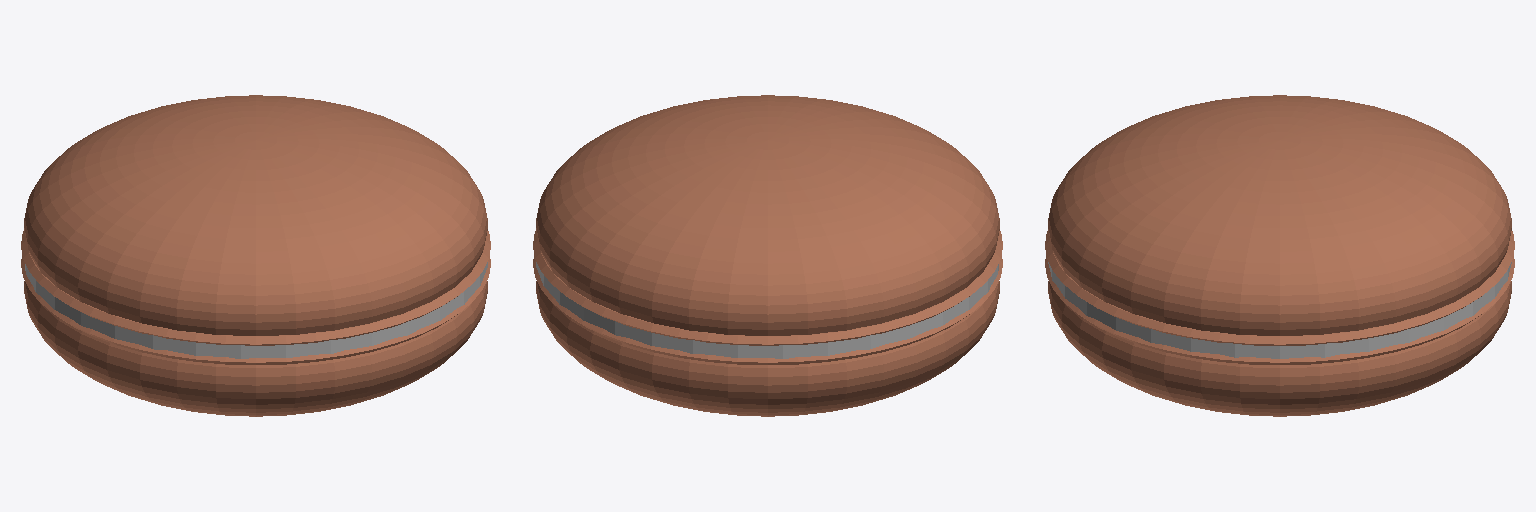
The model's file is makalong8.obj.
3 renders of one model, left to right at view 1: azimuth 30°, elevation 25°; view 2: azimuth 150°, elevation 25°; view 3: azimuth 270°, elevation 25°, orthographic.
Parts seen in each view (by area): view 1: Sphere_Sphere.001, Sphere.001_Sphere.002, Cylinder, Torus.001, Torus; view 2: Sphere_Sphere.001, Sphere.001_Sphere.002, Cylinder, Torus.001, Torus; view 3: Sphere_Sphere.001, Sphere.001_Sphere.002, Cylinder, Torus.001, Torus.
Part boxes in pixels (x1,y1,x2,y2): Sphere_Sphere.001: (24,95,487,335); Sphere.001_Sphere.002: (24,281,487,416); Cylinder: (25,262,487,358); Torus.001: (21,231,490,345); Torus: (21,256,490,364); Sphere_Sphere.001: (536,95,999,335); Sphere.001_Sphere.002: (536,281,999,416); Cylinder: (536,262,998,358); Torus.001: (533,231,1002,345); Torus: (533,256,1002,364); Sphere_Sphere.001: (1048,95,1511,335); Sphere.001_Sphere.002: (1048,281,1511,416); Cylinder: (1048,262,1511,358); Torus.001: (1045,231,1514,345); Torus: (1045,256,1514,364).
Size of the model in its own units: 2.02 by 1.1 by 2.02.